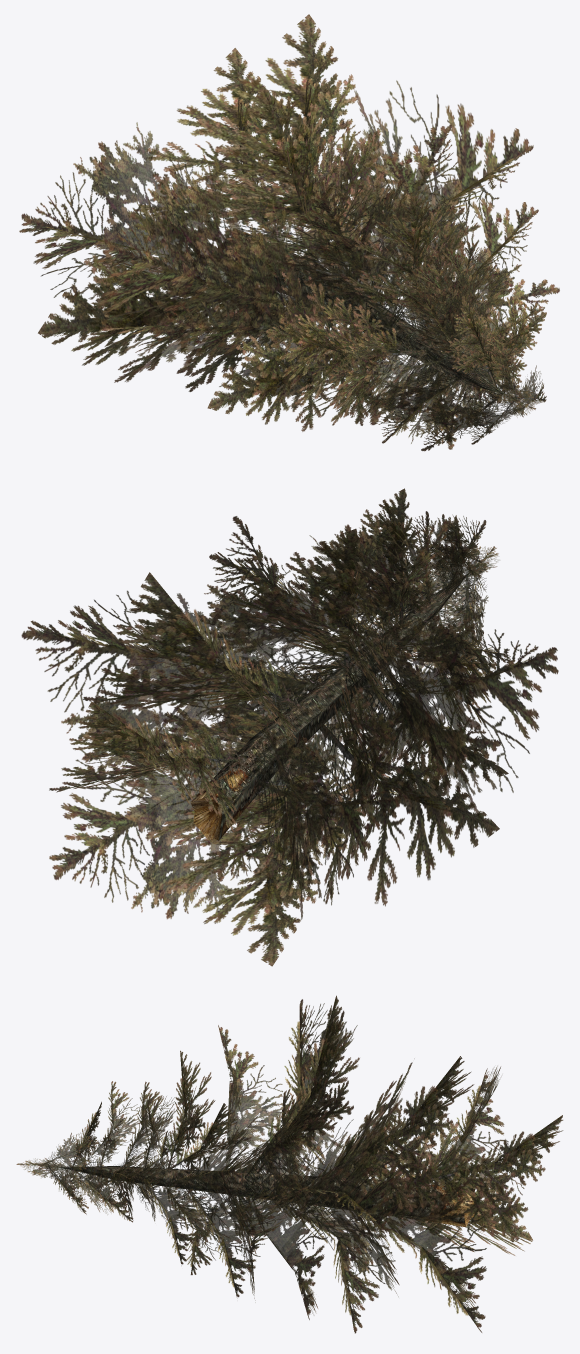
File: tree4_19g.glb
The picture shows the model from 3 angles, top to bottom: view 1: azimuth 30°, elevation 25°; view 2: azimuth 150°, elevation 25°; view 3: azimuth 270°, elevation 25°; orthographic projection. The views are drawn at different scales.
Visible parts, largest first — view 1: tree4_19g-col; view 2: tree4_19g-col; view 3: tree4_19g-col.
Boxes of the visible parts, x1,y1,x2,y2 form: tree4_19g-col: [19, 14, 559, 451]; tree4_19g-col: [21, 488, 558, 966]; tree4_19g-col: [16, 995, 563, 1333].
Size of the model in its own units: 11.84 by 8.65 by 14.67.
4 materials, 4 textured.
